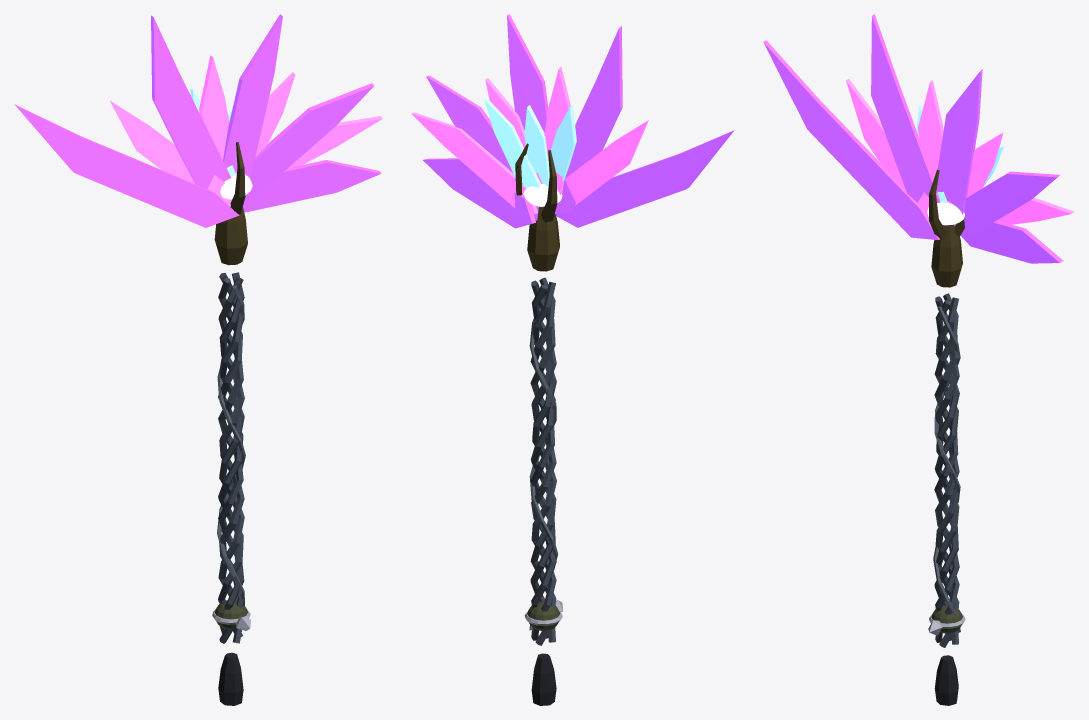
The model's file is staff_violettongue.glb.
3 renders of one model, left to right at view 1: azimuth 30°, elevation 25°; view 2: azimuth 150°, elevation 25°; view 3: azimuth 330°, elevation 25°, orthographic. The views are drawn at different scales.
Visible parts, largest first — view 1: Vt_Tongue0, Vt_Tongue1, Vt_Tongue2, Vt_Tongue3, Vt_Tongue4, Vt_Tongue5, Vt_Cable3, Vt_Cable1, Vt_Cable2, Vt_Cable0, Vt_Tongue6, Vt_Heart (+5 smaller); view 2: Vt_Tongue0, Vt_Tongue1, Vt_Tongue8, Vt_Tongue4, Vt_Tongue2, Vt_Tongue5, Vt_Tongue3, Vt_Cable0, Vt_Cable2, Vt_Cable1, Vt_Cable3, Vt_Tongue11 (+9 smaller); view 3: Vt_Tongue0, Vt_Tongue1, Vt_Tongue2, Vt_Tongue3, Vt_Tongue4, Vt_Tongue5, Vt_Cable2, Vt_Cable3, Vt_Cable1, Vt_Cable0, Vt_Tongue6, Vt_Heart (+6 smaller).
Part boxes in pixels (box(x1,y1,x2,y2)): Vt_Tongue0: box(14, 104, 239, 227); Vt_Tongue1: box(151, 15, 231, 189); Vt_Tongue2: box(223, 14, 282, 178); Vt_Tongue3: box(244, 83, 373, 200); Vt_Tongue4: box(243, 160, 381, 212); Vt_Tongue5: box(110, 100, 231, 206); Vt_Cable3: box(218, 273, 244, 643); Vt_Cable1: box(218, 277, 244, 633); Vt_Cable2: box(219, 272, 244, 643); Vt_Cable0: box(218, 278, 243, 636); Vt_Tongue6: box(199, 55, 236, 173); Vt_Heart: box(214, 206, 247, 265); Vt_Tongue0: box(556, 130, 734, 227); Vt_Tongue1: box(554, 26, 622, 213); Vt_Tongue8: box(411, 112, 537, 214); Vt_Tongue4: box(423, 158, 535, 228); Vt_Tongue2: box(507, 14, 548, 132); Vt_Tongue5: box(564, 120, 648, 205); Vt_Tongue3: box(426, 75, 538, 220); Vt_Cable0: box(531, 281, 556, 640); Vt_Cable2: box(530, 280, 555, 642); Vt_Cable1: box(530, 277, 556, 645); Vt_Cable3: box(531, 284, 556, 638); Vt_Tongue11: box(484, 97, 540, 187); Vt_Tongue0: box(763, 40, 939, 239); Vt_Tongue1: box(871, 14, 940, 202); Vt_Tongue2: box(936, 69, 982, 225); Vt_Tongue3: box(962, 171, 1059, 234); Vt_Tongue4: box(960, 221, 1063, 263); Vt_Tongue5: box(846, 79, 928, 218); Vt_Cable2: box(935, 297, 959, 642); Vt_Cable3: box(934, 293, 959, 647); Vt_Cable1: box(935, 300, 959, 640); Vt_Cable0: box(934, 296, 958, 644); Vt_Tongue6: box(918, 80, 950, 202); Vt_Heart: box(931, 224, 962, 287).
Bounding box in the file's own units: 1.34 × 2.6 × 0.2168.
